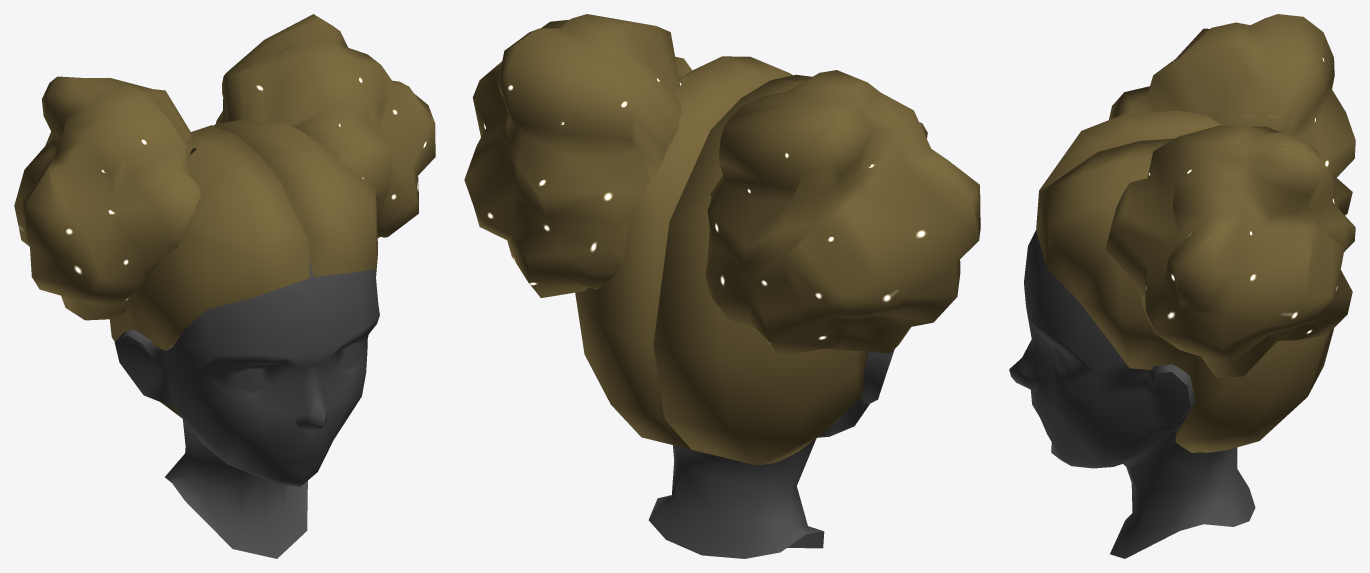
File: doki-space-buns.glb
3 views of the same model, side by side, from view 1: azimuth 30°, elevation 25°; view 2: azimuth 150°, elevation 25°; view 3: azimuth 270°, elevation 25° (orthographic). The views are drawn at different scales.
Parts seen in each view (by area): view 1: Space Buns, Head_BaseMesh; view 2: Space Buns, Head_BaseMesh; view 3: Space Buns, Head_BaseMesh.
Part boxes in pixels (x1,y1,x2,y2): Space Buns: (14,14,435,417); Head_BaseMesh: (114,258,379,558); Space Buns: (464,14,980,465); Head_BaseMesh: (648,349,894,558); Space Buns: (1036,14,1355,452); Head_BaseMesh: (1009,230,1255,558).
Size of the model in its own units: 0.992 by 1.05 by 0.6934.
Materials: 2 (2 with a texture image).
